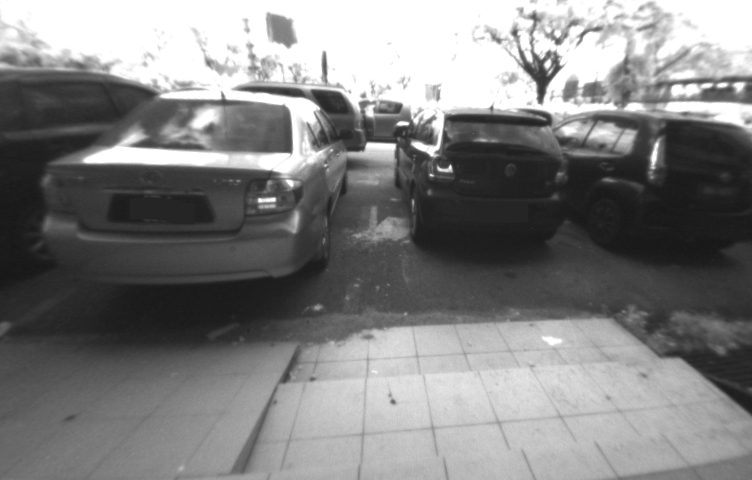down_steps: (242, 308, 740, 480)
mixed_gradient: (181, 331, 335, 480)
uncovered_drainage: (648, 326, 752, 424)
